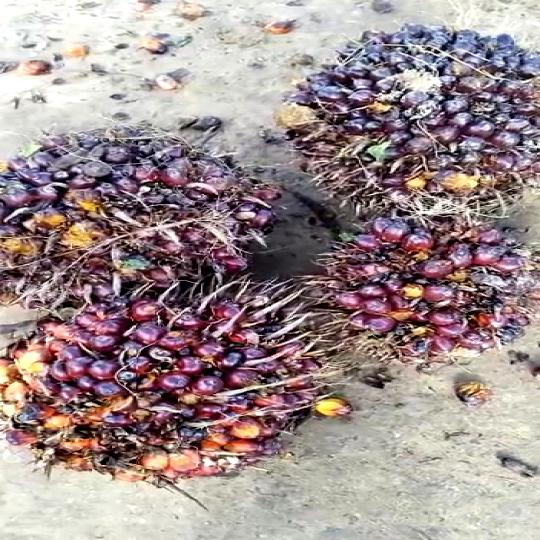masak: (0, 274, 334, 486), (262, 24, 540, 218), (1, 125, 294, 302), (292, 195, 529, 380)
